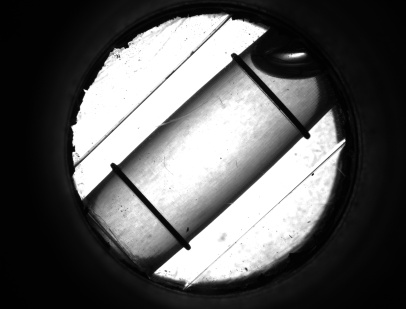line: (117, 181, 180, 227), (255, 88, 304, 119)
